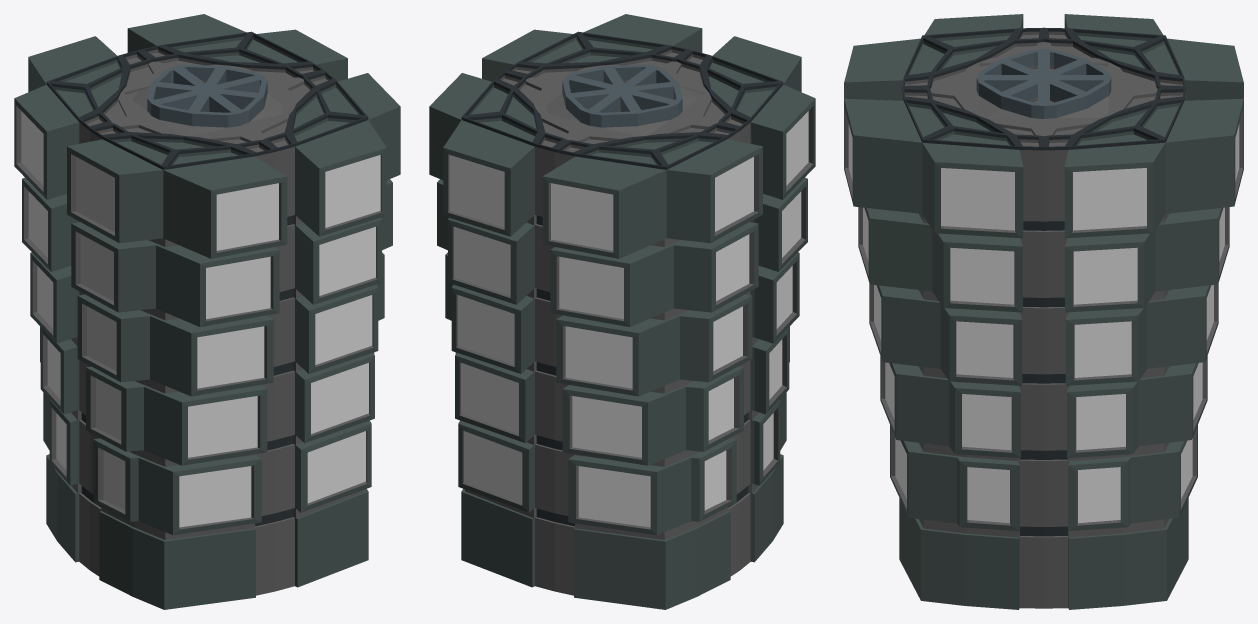
The model's file is building_53.fbx.
3 views of the same model, side by side, from view 1: azimuth 30°, elevation 25°; view 2: azimuth 150°, elevation 25°; view 3: azimuth 270°, elevation 25° (orthographic). The views are drawn at different scales.
Parts seen in each view (by area): view 1: building_53; view 2: building_53; view 3: building_53.
Boxes of the visible parts, x1,y1,x2,y2 form: building_53: (14, 14, 400, 609); building_53: (429, 14, 815, 609); building_53: (844, 14, 1243, 609).
Bounding box in the file's own units: 967 × 1387 × 1066.
